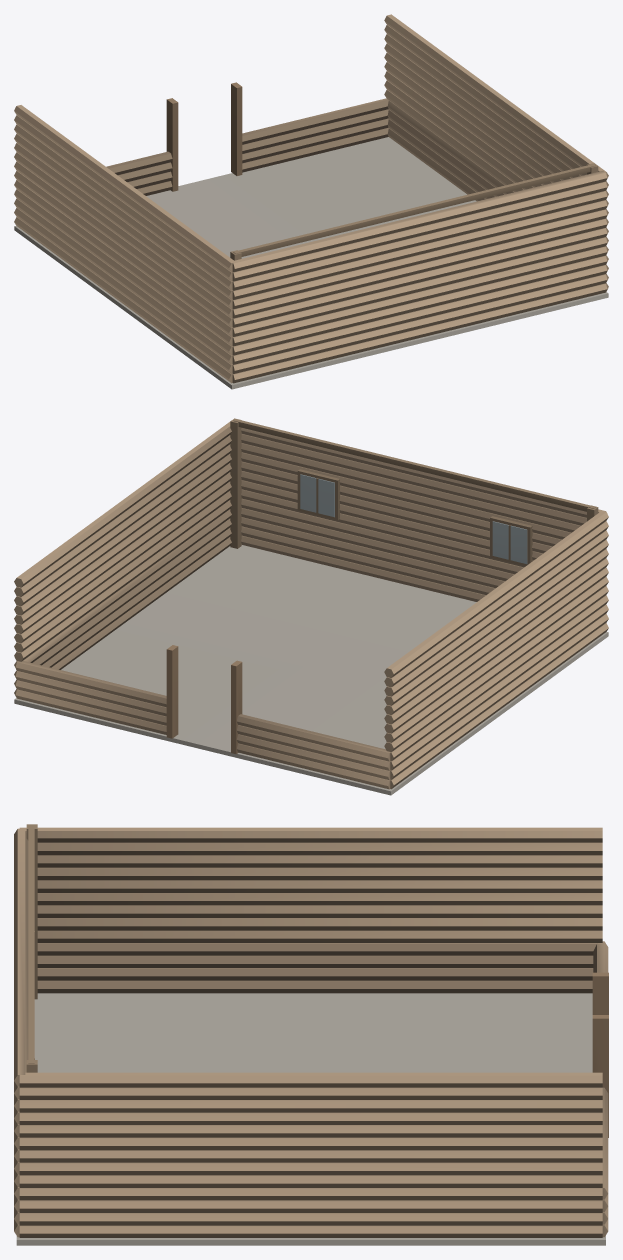
File: home_hut_room__base.glb
3 renders of one model, top to bottom at view 1: azimuth 30°, elevation 25°; view 2: azimuth 150°, elevation 25°; view 3: azimuth 270°, elevation 25°, orthographic. The views are drawn at different scales.
Size of the model in its own units: 9.48 by 3.12 by 9.49.
